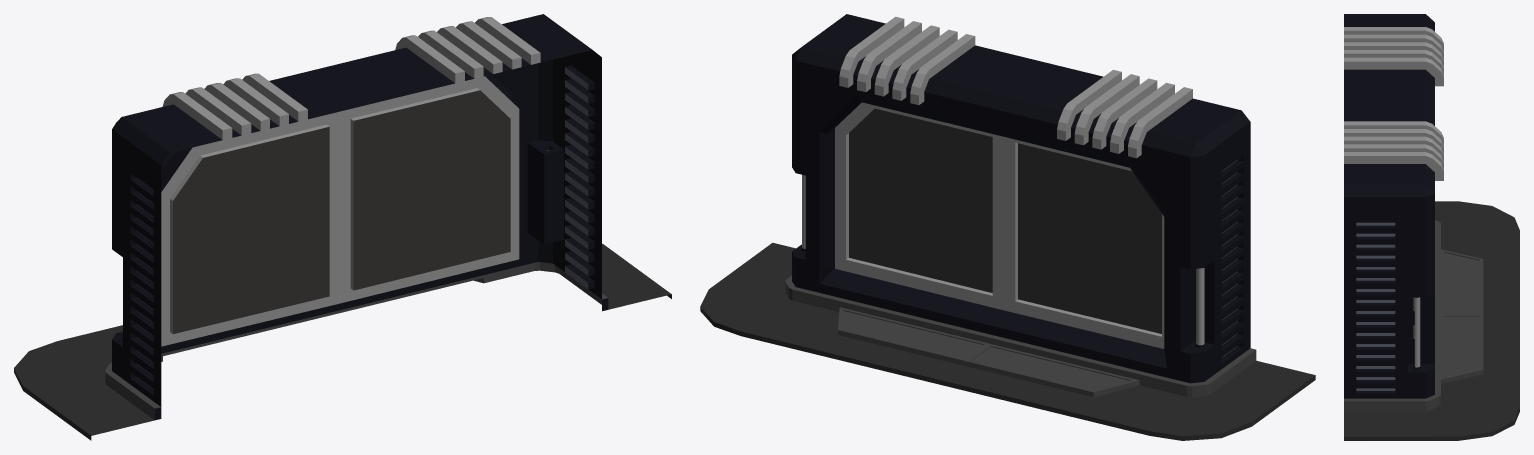
The model's file is Gate.FBX.
3 views of the same model, side by side, from view 1: azimuth 30°, elevation 25°; view 2: azimuth 150°, elevation 25°; view 3: azimuth 270°, elevation 25° (orthographic). The views are drawn at different scales.
Parts seen in each view (by area): view 1: Box001; view 2: Box001; view 3: Box001.
Boxes of the visible parts, left/top/right/bottom form: Box001: left=14, top=14, right=671, bottom=440; Box001: left=700, top=14, right=1315, bottom=440; Box001: left=1344, top=14, right=1519, bottom=440.
Size of the model in its own units: 184 by 84.54 by 58.11.
